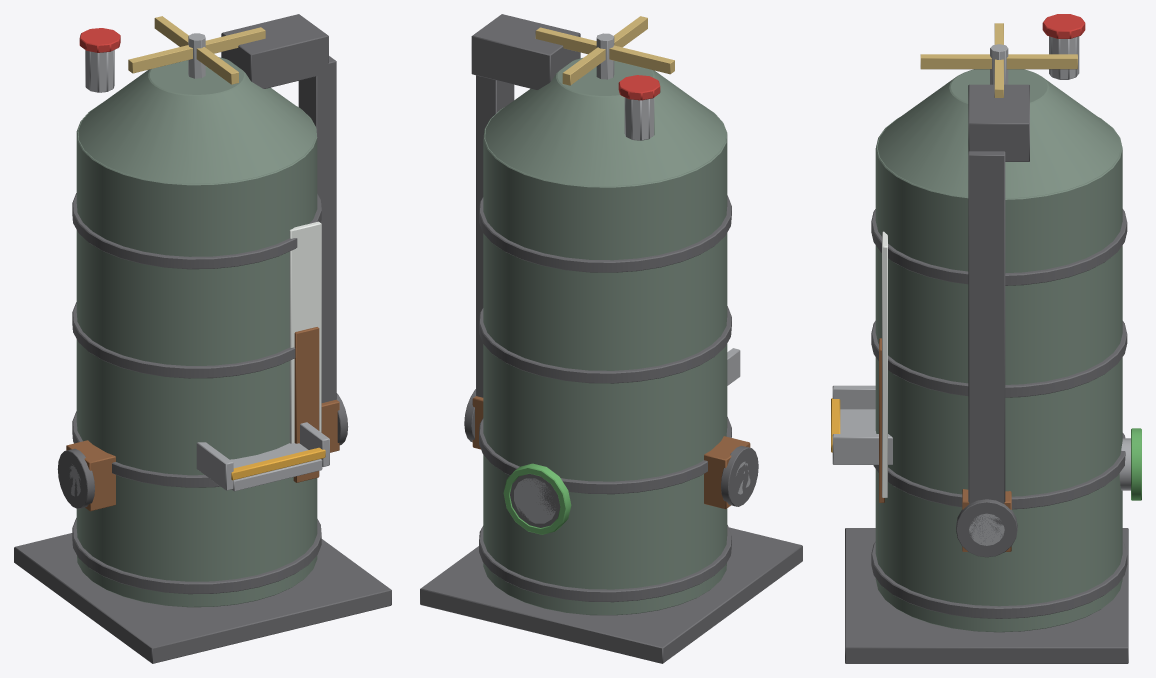
The model's file is feBiodigesterBig.fbx.
The picture shows the model from 3 angles, left to right: view 1: azimuth 30°, elevation 25°; view 2: azimuth 150°, elevation 25°; view 3: azimuth 270°, elevation 25°; orthographic projection. The views are drawn at different scales.
Parts seen in each view (by area): view 1: feBiodigesterBig_Base, FeSpin_x0.5_Stirrer.001, FeSpin_DriveShaft.002; view 2: feBiodigesterBig_Base, FeSpin_x0.5_Stirrer.001, FeSpin_DriveShaft.002; view 3: feBiodigesterBig_Base, FeSpin_x0.5_Stirrer.001, FeSpin_DriveShaft.002.
Part boxes in pixels (x1,y1,x2,y2): feBiodigesterBig_Base: (14, 14, 391, 663); FeSpin_x0.5_Stirrer.001: (128, 16, 265, 84); FeSpin_DriveShaft.002: (57, 393, 348, 508); feBiodigesterBig_Base: (420, 14, 802, 663); FeSpin_x0.5_Stirrer.001: (535, 16, 674, 85); FeSpin_DriveShaft.002: (464, 389, 758, 506); feBiodigesterBig_Base: (831, 14, 1141, 663); FeSpin_x0.5_Stirrer.001: (920, 23, 1077, 97); FeSpin_DriveShaft.002: (956, 499, 1017, 557).
Size of the model in its own units: 1 by 1.99 by 1.01.
